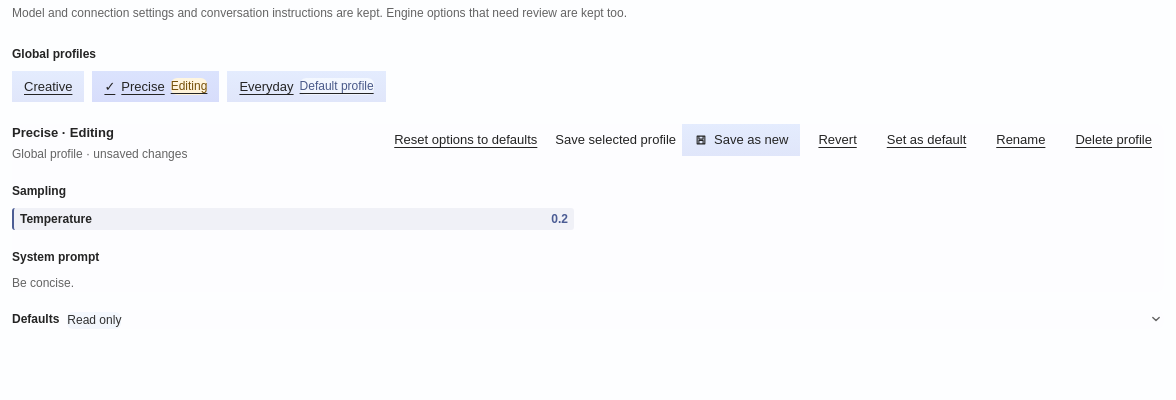
Test: settings profile workspace › offers draft editing actions in the profile selection detail without duplicating the picker
Check: the button "Save selected profile" is enabled, box x1=555 y1=130 x2=676 y2=150
Check: the button "Save as new" is enabled, box x1=682 y1=124 x2=800 y2=156
Click the button "Reset options to defaults". click: (466, 140)
box: x1=382 y1=124 x2=549 y2=156
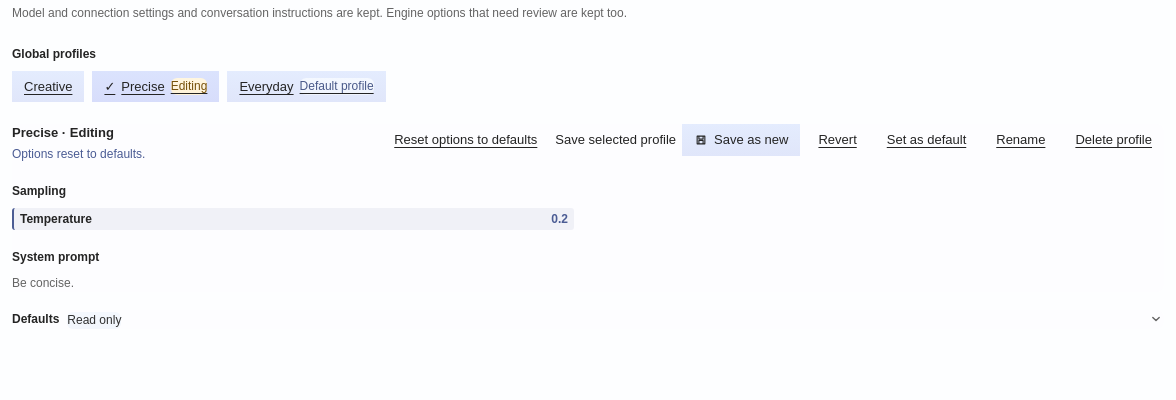
Check: the message reads "Options reset to defaults.", box x1=12 y1=147 x2=145 y2=161
Click the button "Creative". click: (48, 86)
box: x1=12 y1=71 x2=84 y2=102
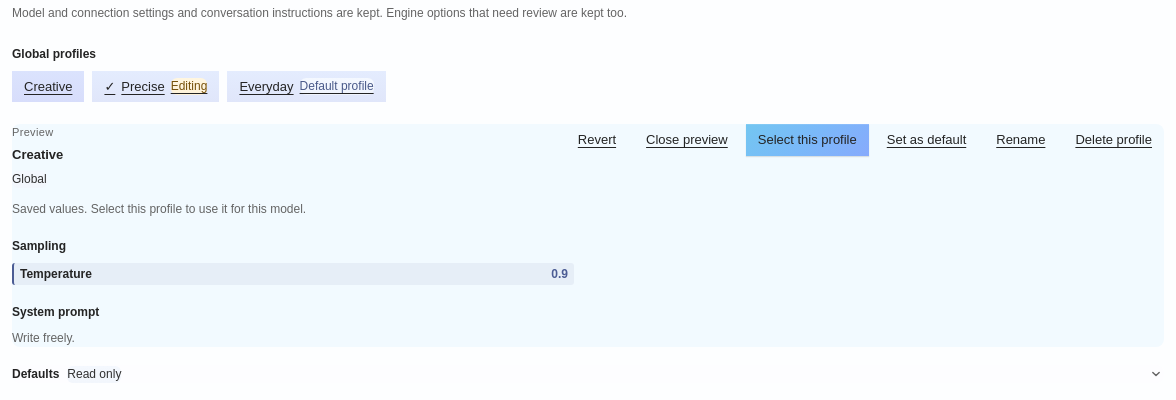
Check: the button "Revert" is enabled, box x1=566 y1=124 x2=628 y2=156
Check: the button "Reset options to defaults" is gone
Check: the button "Save selected profile" is gone
Click the button with aria-label "Precise · Selected · Editing". click: (156, 86)
box: x1=92 y1=71 x2=219 y2=102
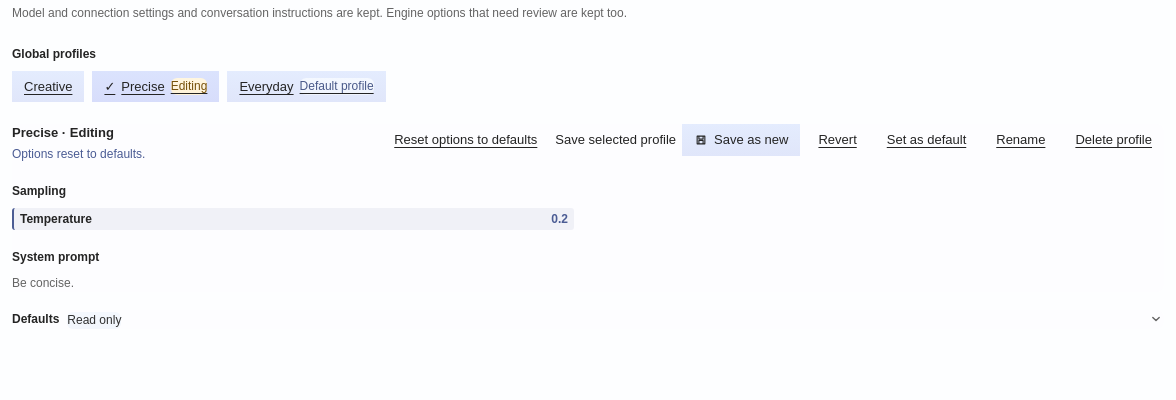
Check: the element named "Current values" is shown, box x1=12 y1=124 x2=1164 y2=292
Check: the button "Save selected profile" is shown, box x1=555 y1=130 x2=676 y2=150
